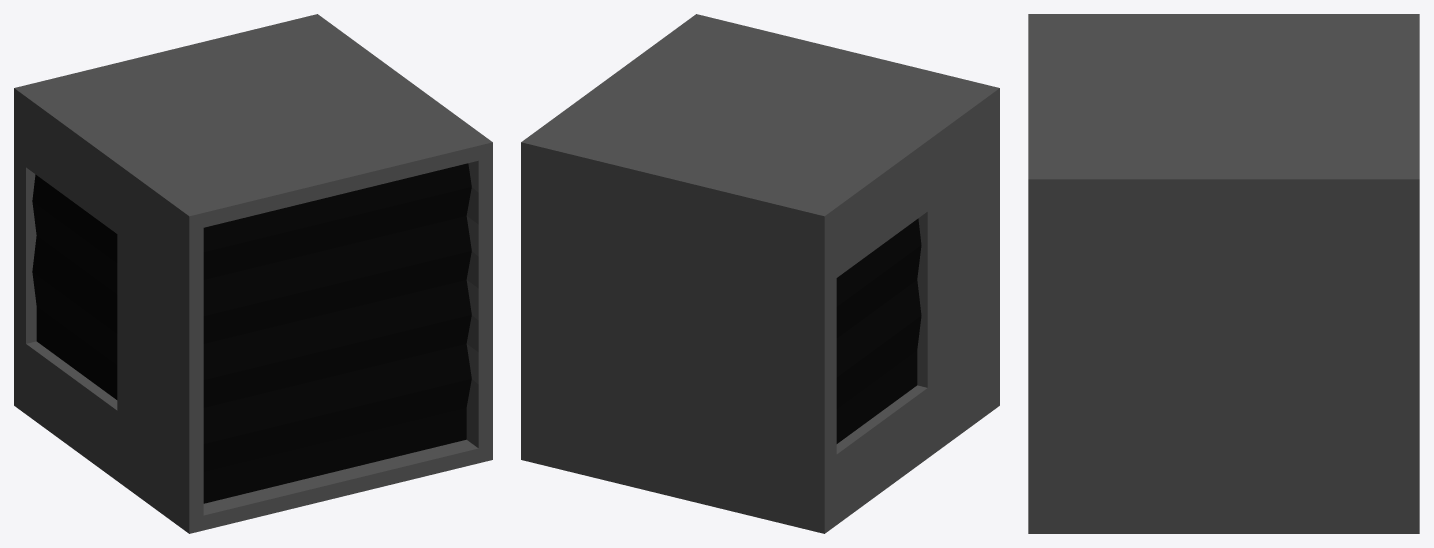
File: Grossse venti2.fbx
3 renders of one model, left to right at view 1: azimuth 30°, elevation 25°; view 2: azimuth 150°, elevation 25°; view 3: azimuth 270°, elevation 25°, orthographic. The views are drawn at different scales.
Parts seen in each view (by area): view 1: Cube.223; view 2: Cube.223; view 3: Cube.223.
Part boxes in pixels (x1=…): Cube.223: x1=14, y1=14, x2=492, y2=533; Cube.223: x1=521, y1=14, x2=999, y2=533; Cube.223: x1=1028, y1=14, x2=1419, y2=533.
Bounding box in the file's own units: 500 × 500 × 500.
